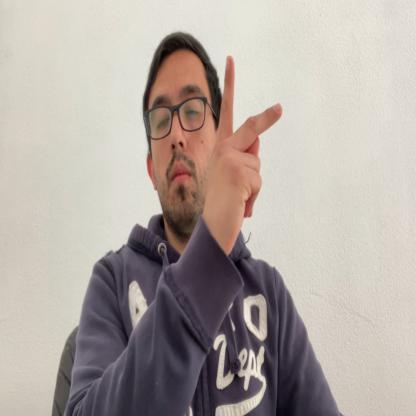P: (206, 53, 283, 261)
